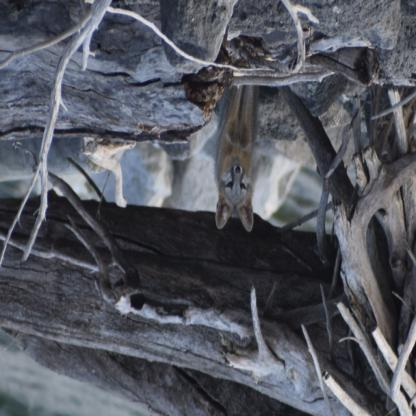zorro: (207, 75, 269, 235)
